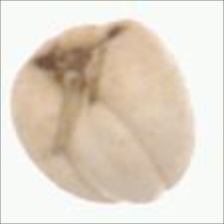L5: (23, 19, 138, 132), (58, 95, 169, 208)
L6: (8, 20, 197, 209)
